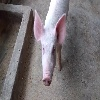heo: (32, 8, 65, 88)
